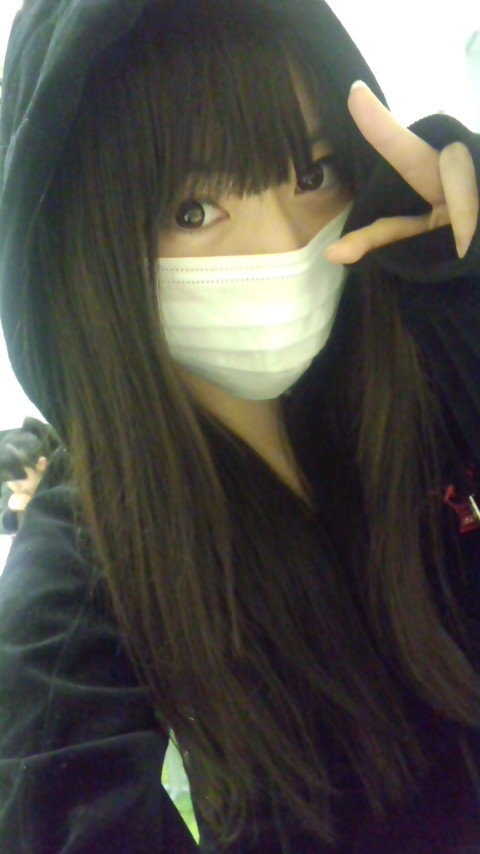face_mask: (131, 47, 354, 400)
